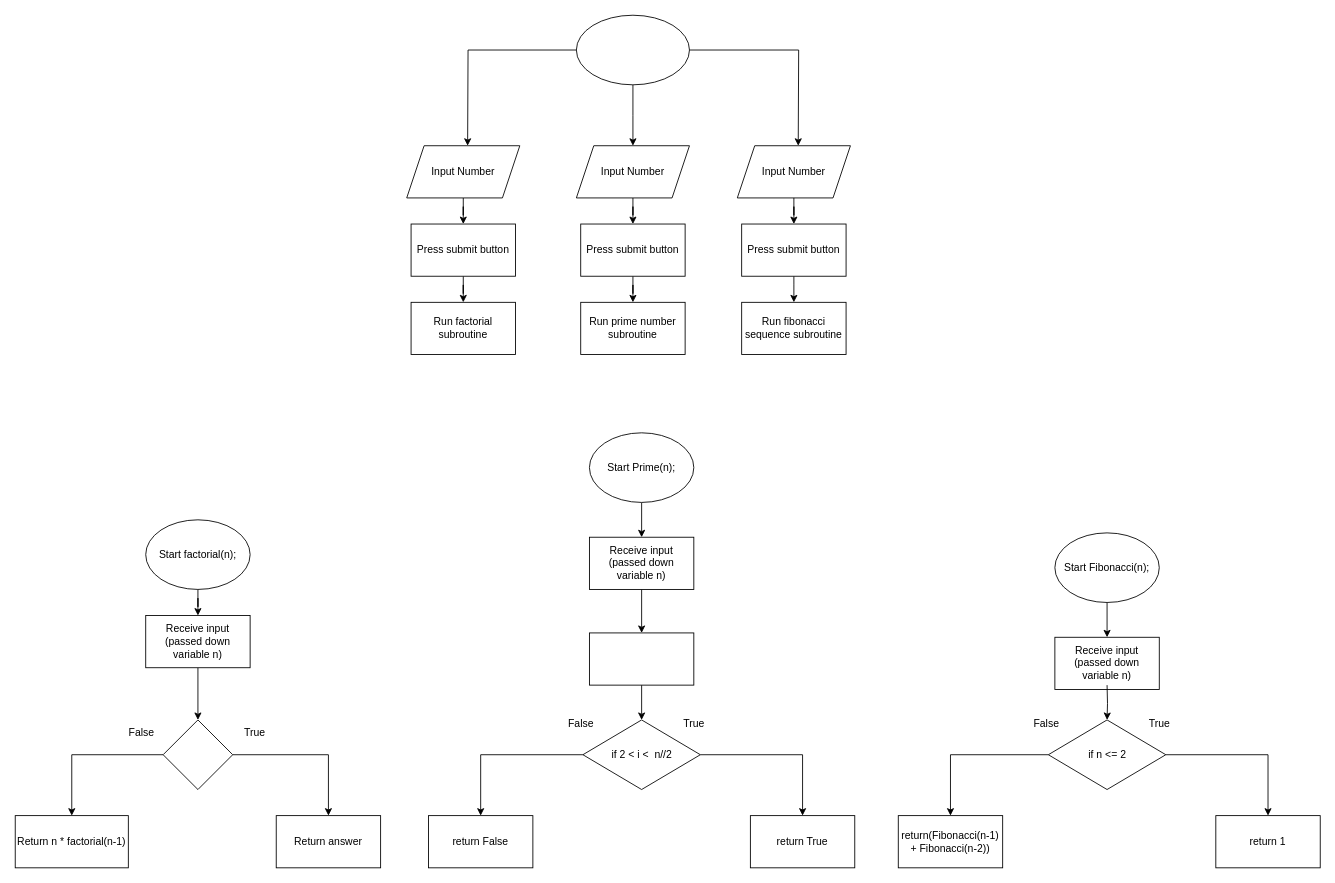
This 1335x883 diagram has some shape labels left out. The centre of each missing label's shape, as x and y in pixels:
"int i = 0" belongs at pixel 641 658.
"n == 1" belongs at pixel 197 754.
"Start" belongs at pixel 632 49.
